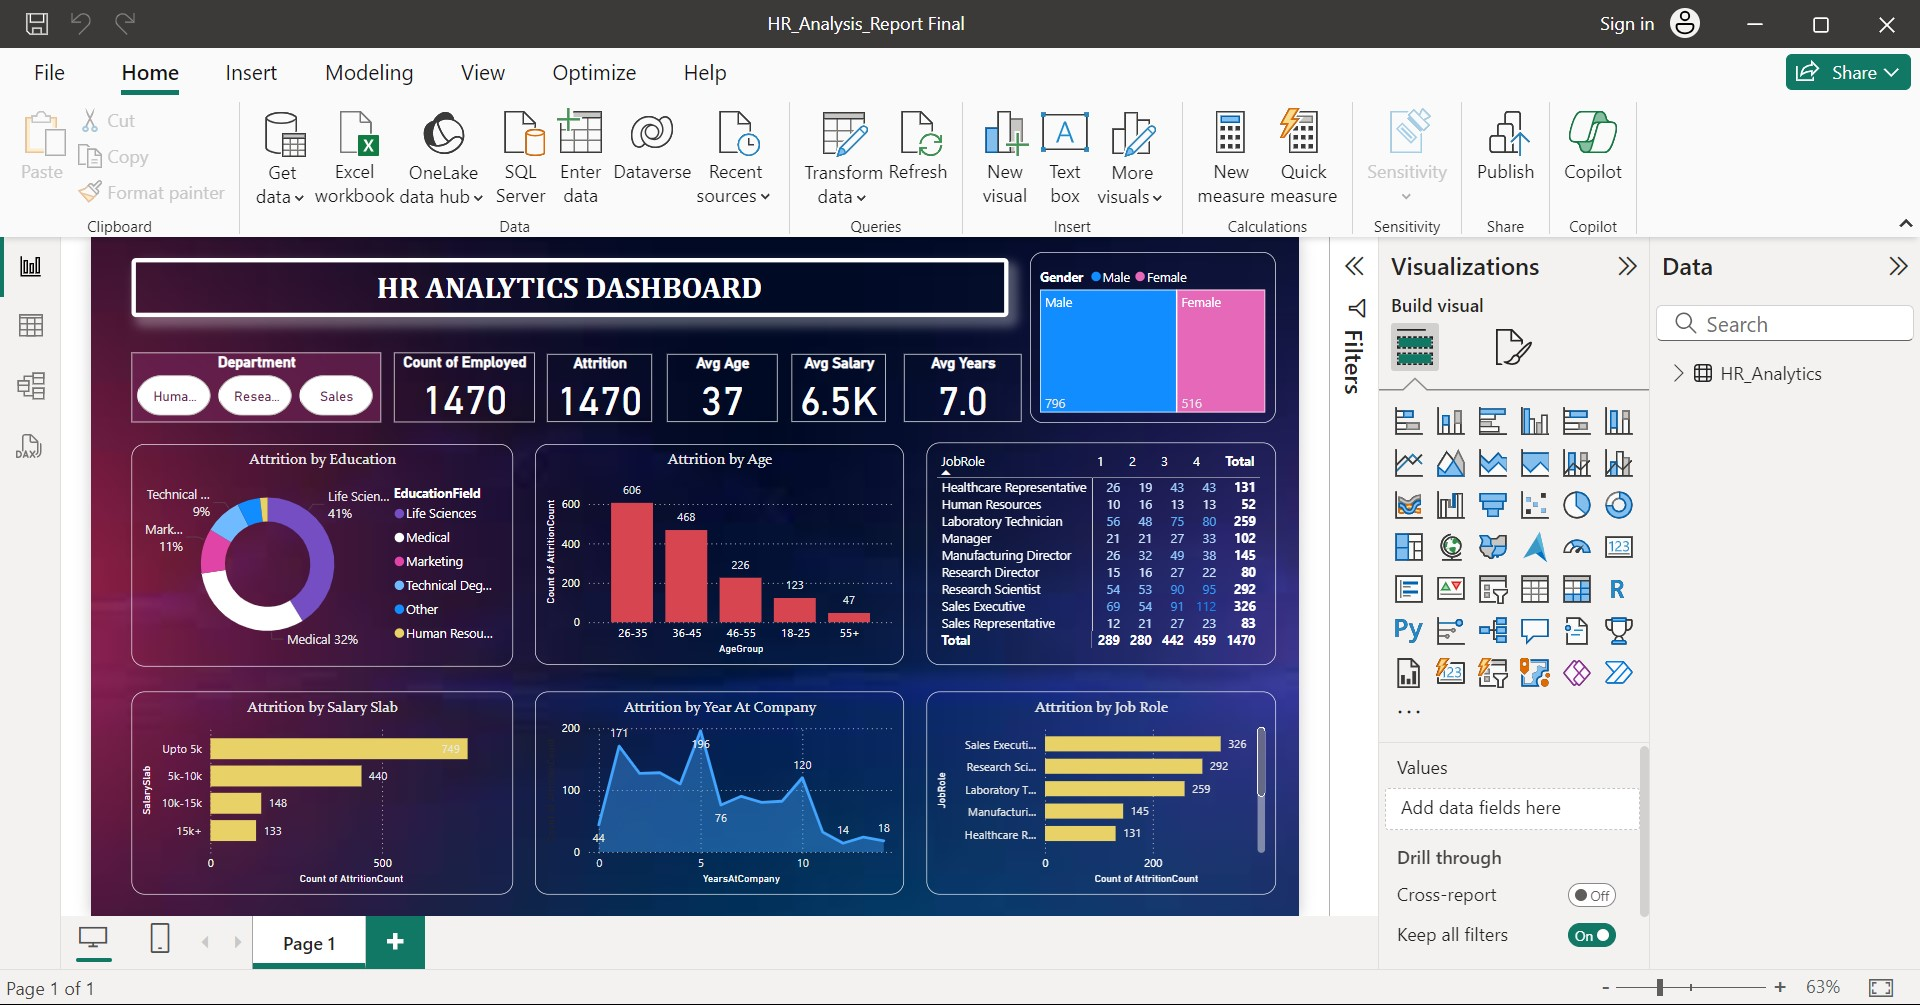

The page's visual inventory and layout, read from the dashboard file:
{"tool":"powerbi","page":{"name":"Page 1","canvas":[1280,720],"ordinal":0},"visuals":[{"type":"card","title":"Count of Employed","fields":{"Values":["CountNonNull(HR_Analytics.EmpID)"]},"box":[321.3,122.8,149.3,73.7],"z":0},{"type":"card","title":"Attrition","fields":{"Values":["CountNonNull(HR_Analytics.AttritionCount)"]},"box":[483.8,124.7,111.5,71.8],"z":1000},{"type":"card","title":"Avg Age","fields":{"Values":["Avg(HR_Analytics.Age)"]},"box":[610.4,124.7,117.2,71.8],"z":2000},{"type":"card","title":"Avg Salary","fields":{"Values":["Avg(HR_Analytics.MonthlyIncome)"]},"box":[742.7,124.7,100.2,71.8],"z":3000},{"type":"card","title":"Avg Years","fields":{"Values":["Avg(HR_Analytics.YearsAtCompany)"]},"box":[861.7,124.7,124.7,71.8],"z":4000},{"type":"donutChart","title":"Attrition by Education","fields":{"Category":["HR_Analytics.EducationField"],"Y":["CountNonNull(HR_Analytics.AttritionCount)"]},"box":[43.5,219.2,404.4,236.2],"z":5000},{"type":"columnChart","title":"Attrition by Age","fields":{"Category":["HR_Analytics.AgeGroup"],"Y":["CountNonNull(HR_Analytics.AttritionCount)"]},"box":[470.6,219.2,391.2,234.3],"z":6000},{"type":"pivotTable","fields":{"Rows":["HR_Analytics.JobRole"],"Columns":["HR_Analytics.JobSatisfaction"],"Values":["CountNonNull(HR_Analytics.AttritionCount)"]},"box":[886.3,217.3,370.4,236.2],"z":7000},{"type":"barChart","title":"Attrition by Salary Slab","fields":{"Category":["HR_Analytics.SalarySlab"],"Y":["CountNonNull(HR_Analytics.AttritionCount)"]},"box":[43.5,481.9,404.4,215.4],"z":8000},{"type":"barChart","title":"Attrition by Job Role","fields":{"Category":["HR_Analytics.JobRole"],"Y":["CountNonNull(HR_Analytics.AttritionCount)"]},"box":[886.3,481.9,370.4,215.4],"z":9000},{"type":"areaChart","title":"Attrition by Year At Company","fields":{"Category":["HR_Analytics.YearsAtCompany"],"Y":["CountNonNull(HR_Analytics.AttritionCount)"]},"box":[470.6,481.9,391.2,215.4],"z":10000},{"type":"treemap","fields":{"Group":["HR_Analytics.Gender"],"Values":["CountNonNull(HR_Analytics.AttritionCount)"]},"box":[995.9,15.1,260.8,181.4],"z":11000},{"type":"advancedSlicerVisual","fields":{"Values":["HR_Analytics.Department"]},"box":[43.5,122.8,264.6,73.7],"z":12000},{"type":"textbox","box":[43.5,22.7,929.8,62.4],"z":13000}]}

Visuals, with their boxes on the page's 1280x720 design canvas (x1, y1, x2, y2). These are canvas units, not pixel positions in the 1920x1005 screenshot, which may show the page scaled, cropped or inside an application window:
"Count of Employed" card: region(321, 123, 471, 196)
"Attrition" card: region(484, 125, 595, 196)
"Avg Age" card: region(610, 125, 728, 196)
"Avg Salary" card: region(743, 125, 843, 196)
"Avg Years" card: region(862, 125, 986, 196)
"Attrition by Education" donutChart: region(44, 219, 448, 455)
"Attrition by Age" columnChart: region(471, 219, 862, 454)
pivotTable - HR_Analytics.JobRole x HR_Analytics.JobSatisfaction: region(886, 217, 1257, 454)
"Attrition by Salary Slab" barChart: region(44, 482, 448, 697)
"Attrition by Job Role" barChart: region(886, 482, 1257, 697)
"Attrition by Year At Company" areaChart: region(471, 482, 862, 697)
treemap - HR_Analytics.Gender x CountNonNull(HR_Analytics.AttritionCount): region(996, 15, 1257, 196)
advancedSlicerVisual - HR_Analytics.Department: region(44, 123, 308, 196)
textbox: region(44, 23, 973, 85)
